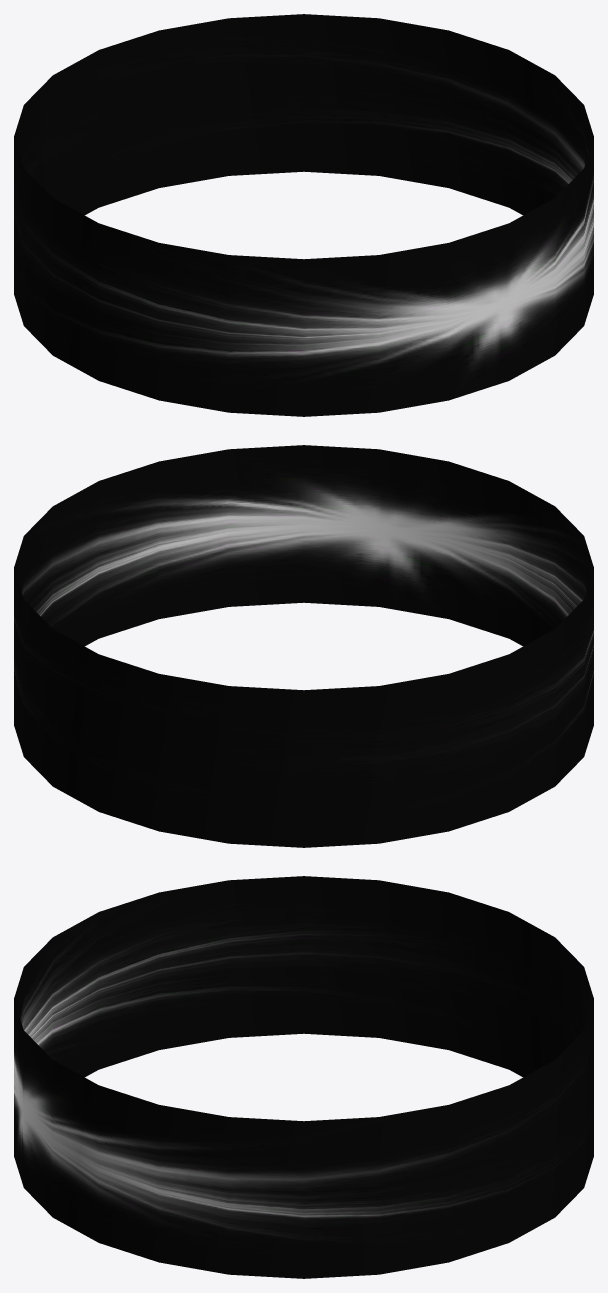
File: 0240_buff_shackles.glb
3 views of the same model, one above another, from view 1: azimuth 30°, elevation 25°; view 2: azimuth 150°, elevation 25°; view 3: azimuth 270°, elevation 25° (orthographic).
Bounding box in the file's own units: 2.2 × 0.66 × 2.2.
1 material, 1 textured.
